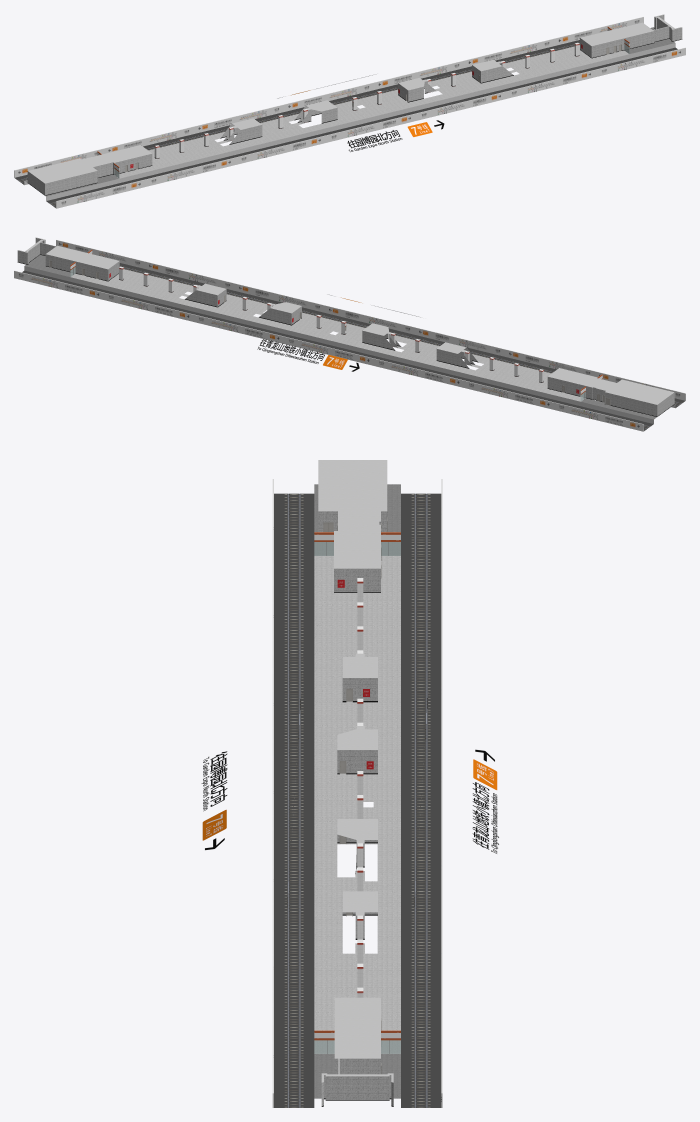
3 renders of one model, top to bottom at view 1: azimuth 30°, elevation 25°; view 2: azimuth 150°, elevation 25°; view 3: azimuth 270°, elevation 25°, orthographic. The views are drawn at different scales.
Parts seen in each view (by area): view 1: road-b2-2, Object131, Object130, Object128, Object129, Object, Object101, Object100, Object039, Object159, Plane124, road-b2-3; view 2: road-b2-2, Object130, Object131, Object128, Object129, Object, Object101, Object100, Object039, Object159, Plane125, road-b2-3; view 3: Object128, road-b2-2, Object101, Object, Object159, road-b2-3, Object100, Object039, Plane125, Plane124, Object130, Object131.
Boxes of the visible parts, x1,y1,x2,y2 form: road-b2-2: (114,45,628,178); Object131: (56,47,685,208); Object130: (14,17,643,177); Object128: (15,40,677,207); Object129: (24,43,675,200); Object: (27,15,682,195); Object101: (28,14,681,183); Object100: (220,63,513,144); Object039: (154,42,579,158); Object159: (232,59,501,129); Plane124: (347,120,444,152); road-b2-3: (25,27,674,196); road-b2-2: (71,269,585,401); Object130: (14,270,643,431); Object131: (56,240,685,400); Object128: (22,263,684,430); Object129: (24,266,675,423); Object: (17,238,674,416); Object101: (18,237,673,404); Object100: (185,287,478,368); Object039: (119,266,543,382); Object159: (196,283,466,353); Plane125: (257,339,359,371); road-b2-3: (25,255,656,419); Object128: (274,493,441,1107); road-b2-2: (314,556,400,1053); Object101: (318,460,393,1082); Object: (318,511,393,1106); Object159: (337,653,377,915); road-b2-3: (314,484,400,1098); Object100: (337,678,377,939); Object039: (357,578,363,997); Plane125: (472,749,498,853); Plane124: (201,751,227,850); Object130: (441,479,442,1107); Object131: (272,479,273,1107).
Bounding box in the file's own units: 220 × 6.28 × 48.2.
21 materials, 20 textured.
